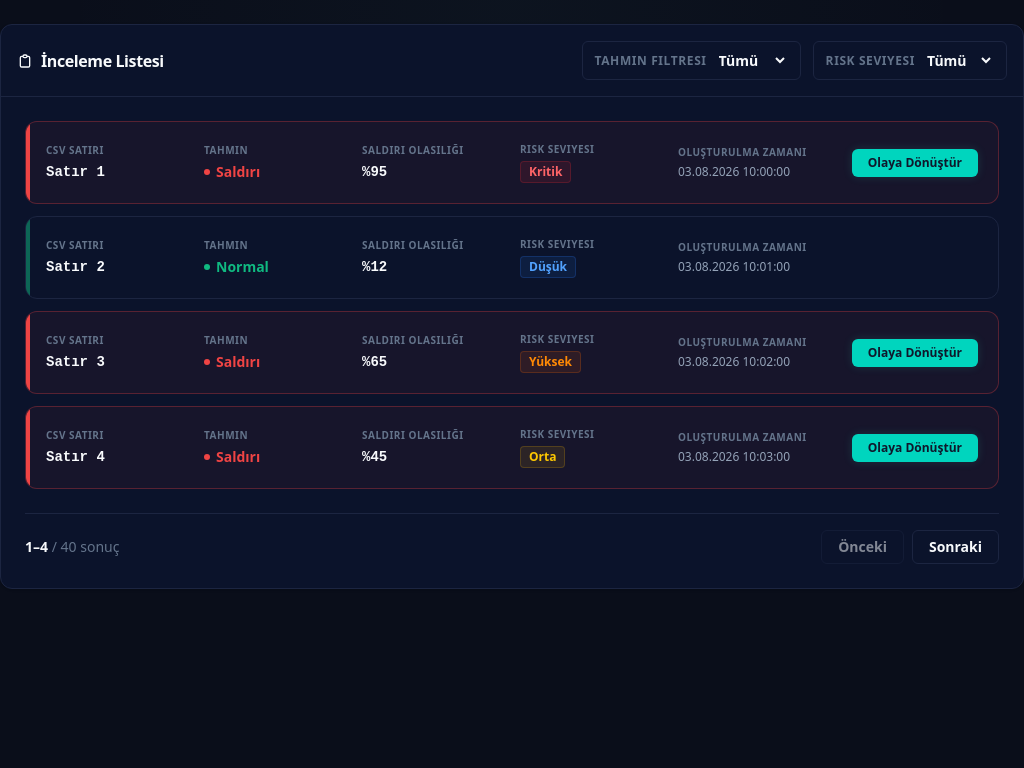
Test: DetectionResultsList › Integration with IncidentCreateForm › 50. Filtre değişince açık form kapanır
The width and height of the screenshot is (1024, 768).
Click the button "Olaya Dönüştür" in the row of "03.08.2026 10:00:00" at (915, 162), box [852,148,978,176]
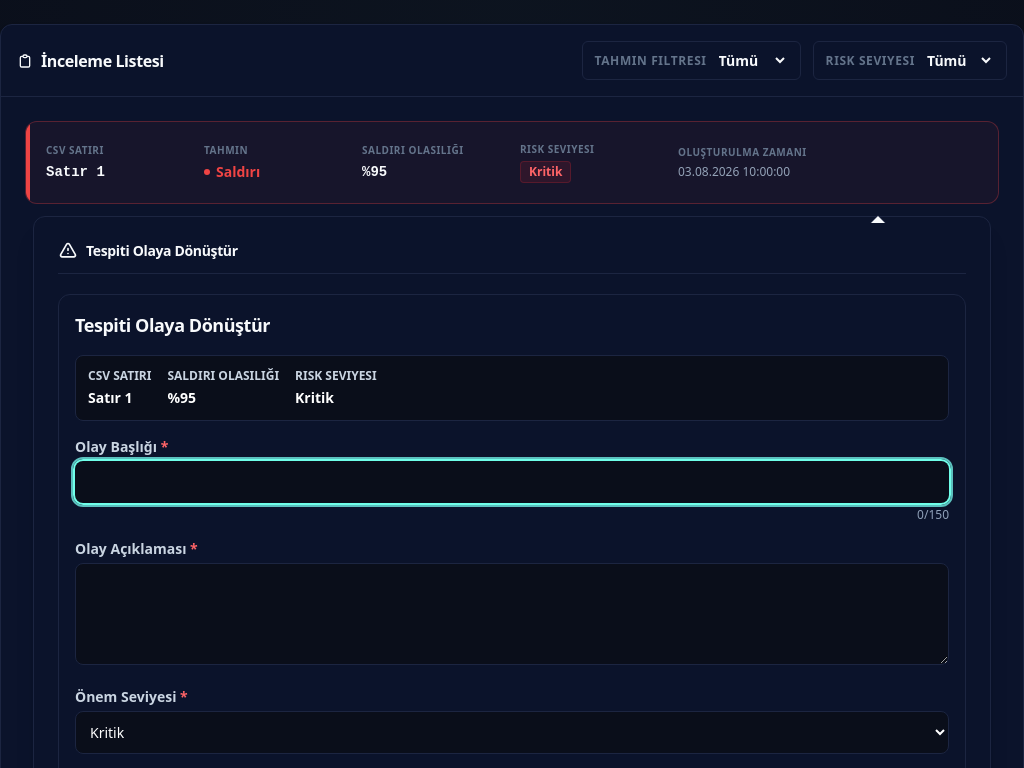
Select "Yüksek" in the dropdown labelled "Risk Seviyesi" at (958, 60), box [923,48,994,73]
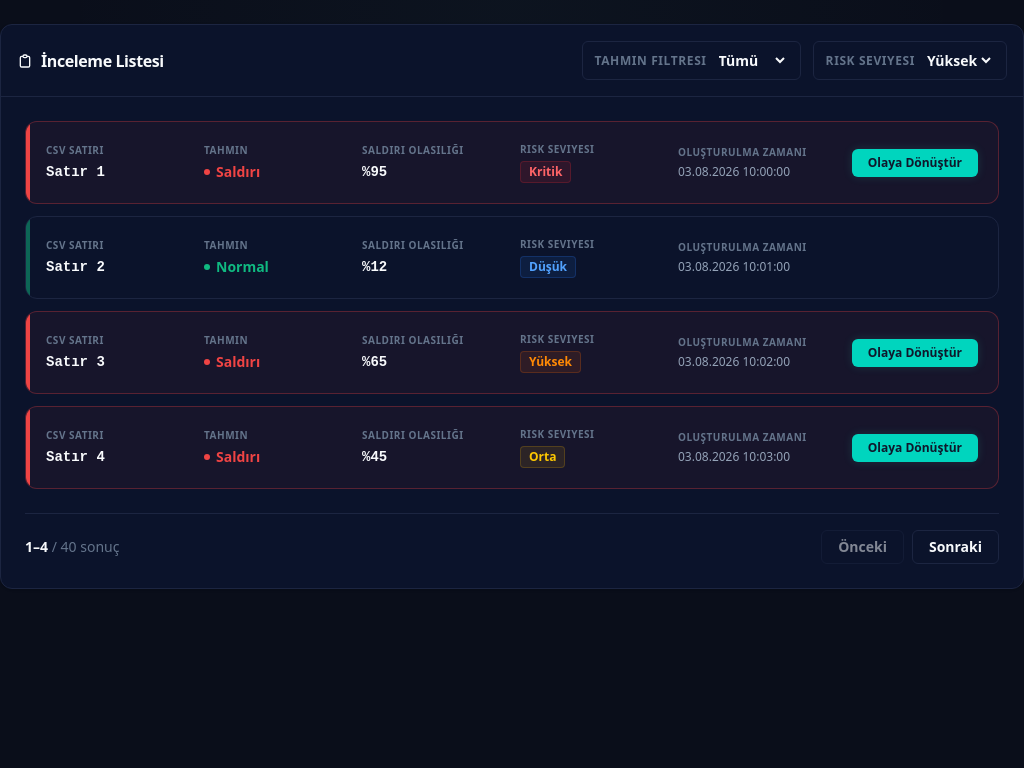
Result: the heading "Tespiti Olaya Dönüştür" is gone
